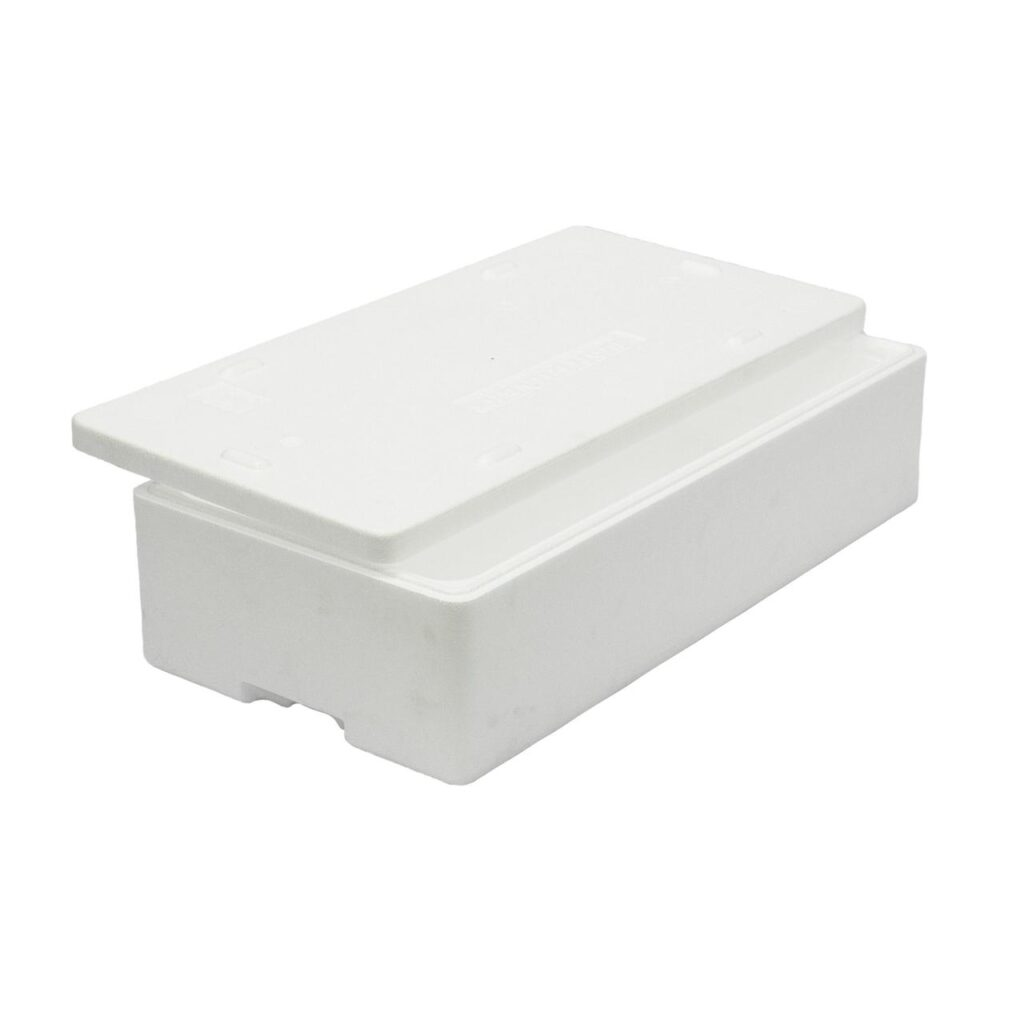泡沫箱: (73, 231, 923, 782)
